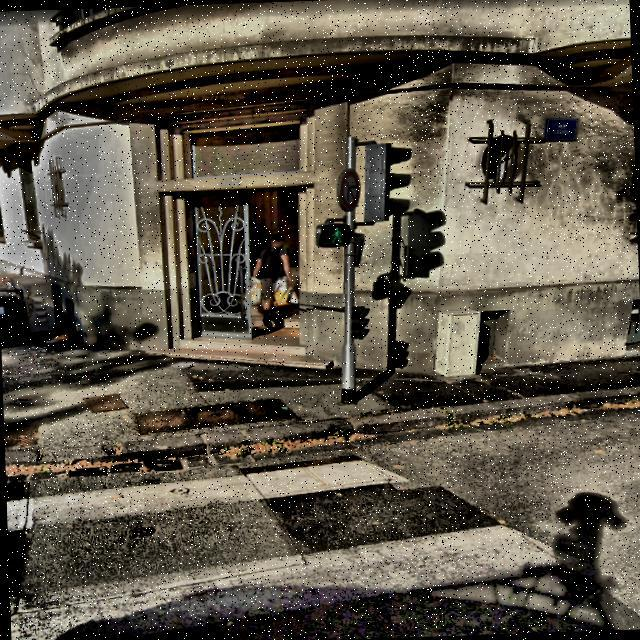green_light: (326, 222, 344, 245)
